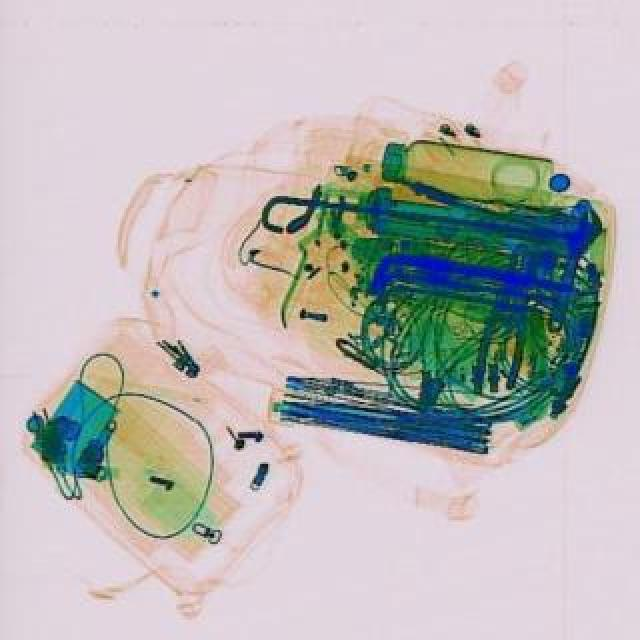scissors: (536, 204, 604, 334)
wrench: (468, 238, 544, 400)
